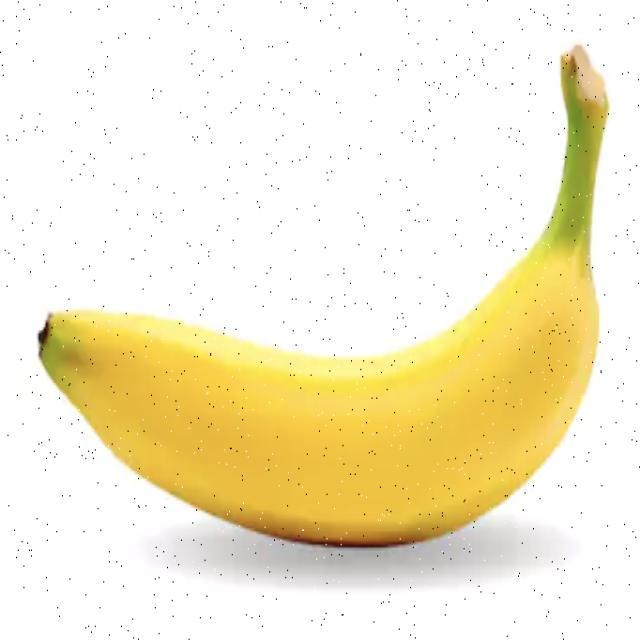Banana: (37, 42, 609, 547)
